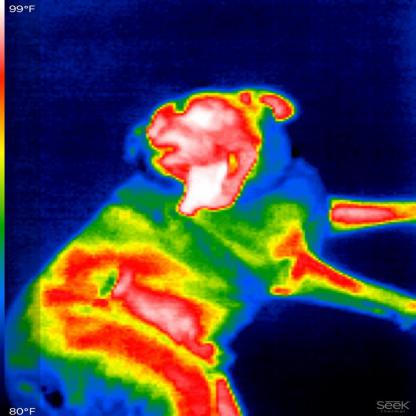dog: (14, 82, 414, 415)
